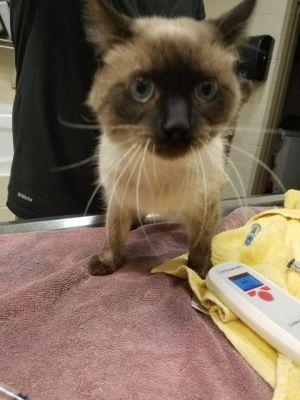siamese: (81, 1, 259, 171)
